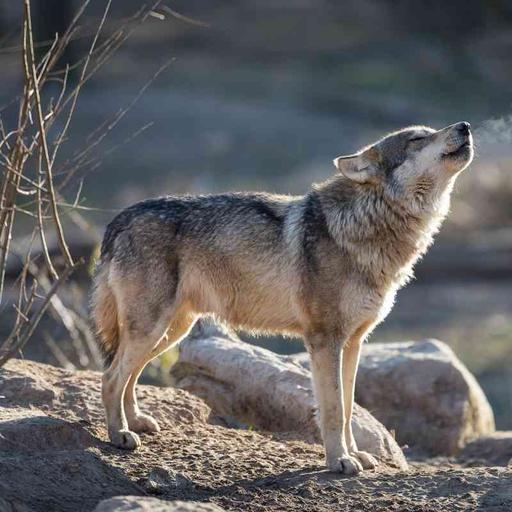Wolf: (78, 118, 478, 475)
